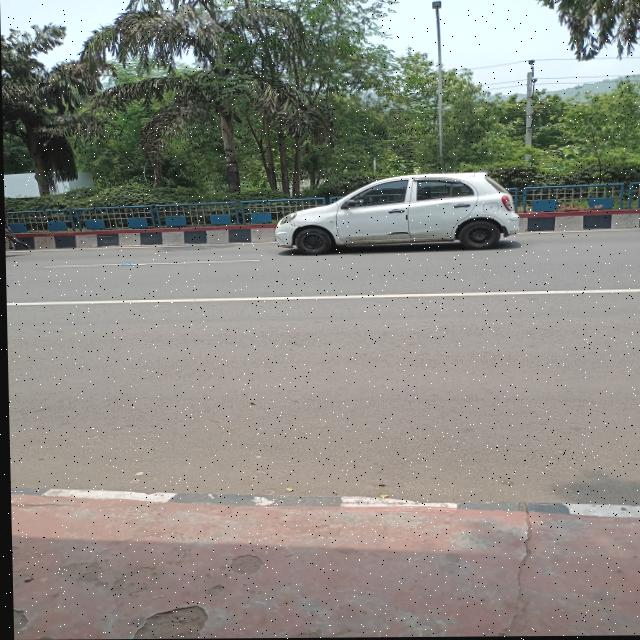car: (266, 166, 533, 263)
